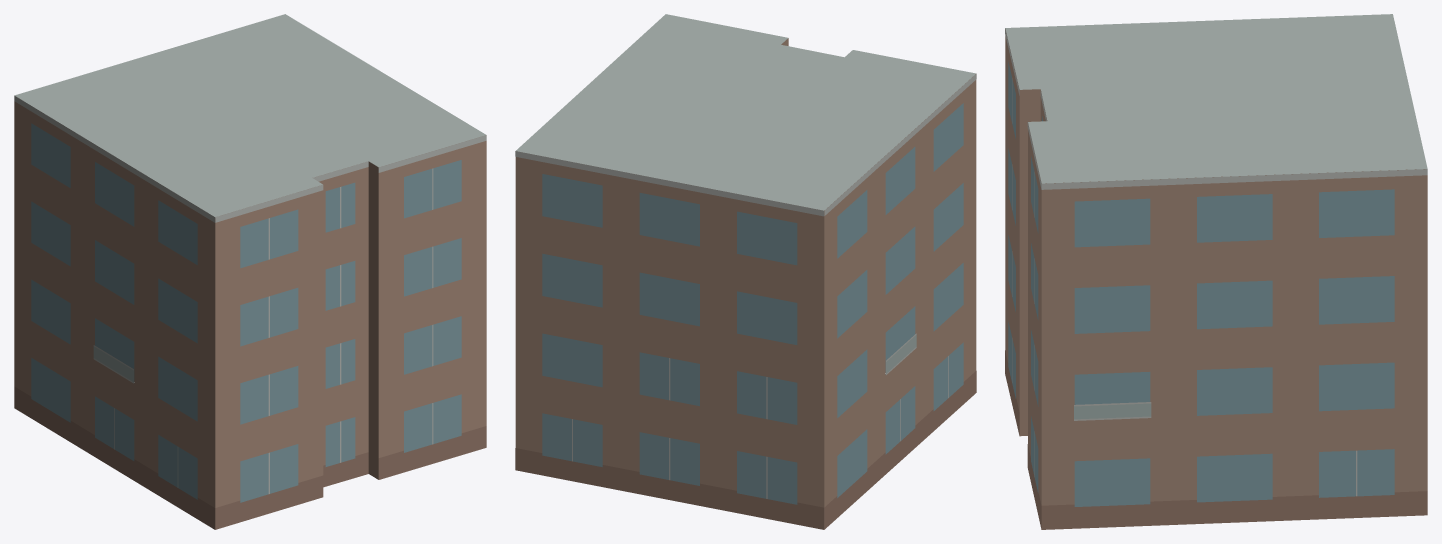
File: survey-upis-32699922.glb
The picture shows the model from 3 angles, left to right: view 1: azimuth 30°, elevation 25°; view 2: azimuth 150°, elevation 25°; view 3: azimuth 270°, elevation 25°; orthographic projection. The views are drawn at different scales.
Visible parts, largest first — view 1: survey-upis-32699922.tmp; view 2: survey-upis-32699922.tmp; view 3: survey-upis-32699922.tmp.
Part boxes in pixels (x1,y1,x2,y2): survey-upis-32699922.tmp: (14,14,486,529); survey-upis-32699922.tmp: (515,14,976,529); survey-upis-32699922.tmp: (1005,14,1427,529).
Bounding box in the file's own units: 14.08 × 13.4 × 14.82.
